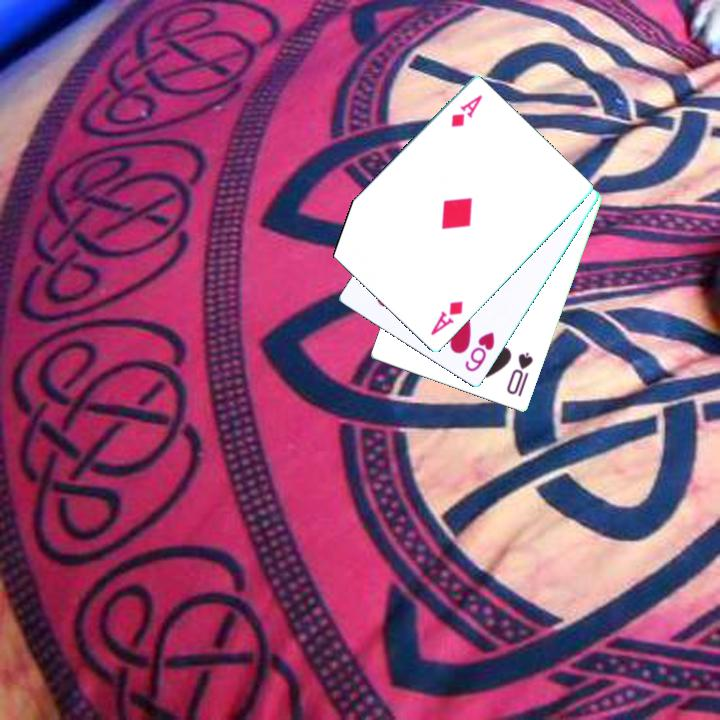10s: (503, 349, 536, 400)
6h: (461, 329, 498, 375)
Ad: (427, 298, 466, 339), (447, 92, 486, 130)
